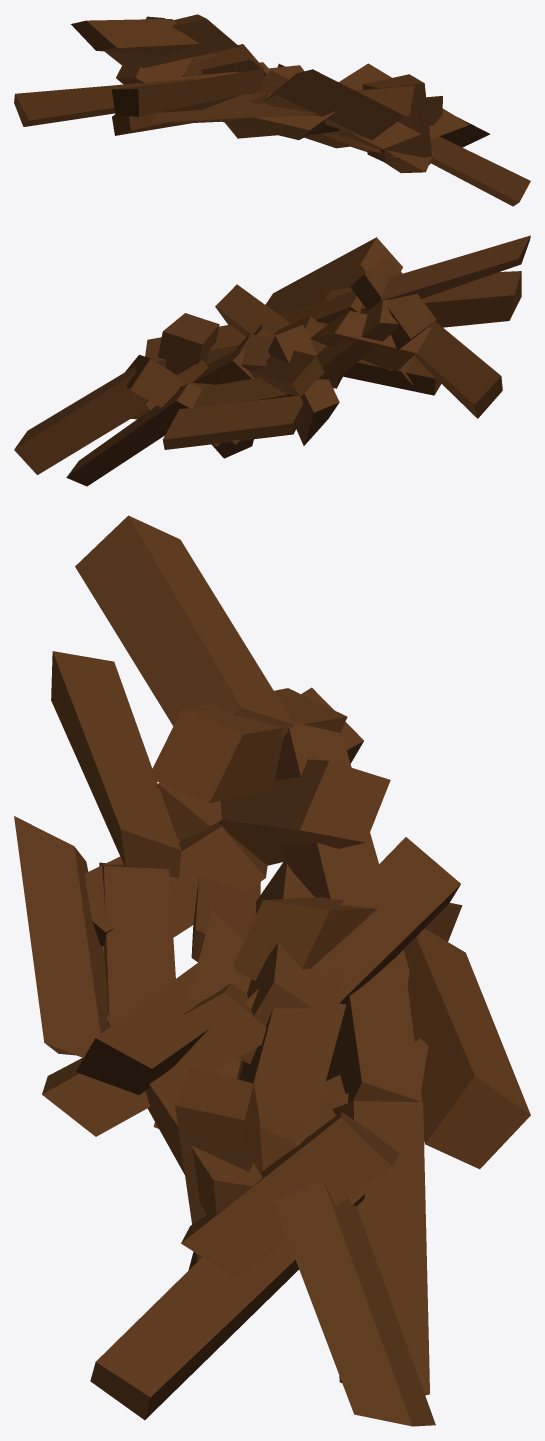
Rendered from ceiling.glb.
The picture shows the model from 3 angles, top to bottom: view 1: azimuth 30°, elevation 25°; view 2: azimuth 150°, elevation 25°; view 3: azimuth 270°, elevation 25°; orthographic projection. The views are drawn at different scales.
Parts seen in each view (by area): view 1: Ceiling; view 2: Ceiling; view 3: Ceiling.
Part boxes in pixels (x1,y1,x2,y2): Ceiling: (14,14,530,206); Ceiling: (14,235,530,486); Ceiling: (14,515,530,1426).
Size of the model in its own units: 38.7 by 23.07 by 19.84.
